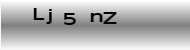5: (63, 11, 78, 27)
L: (33, 7, 45, 21)
Z: (102, 10, 118, 26)
j: (45, 7, 54, 24)
n: (90, 12, 103, 23)
